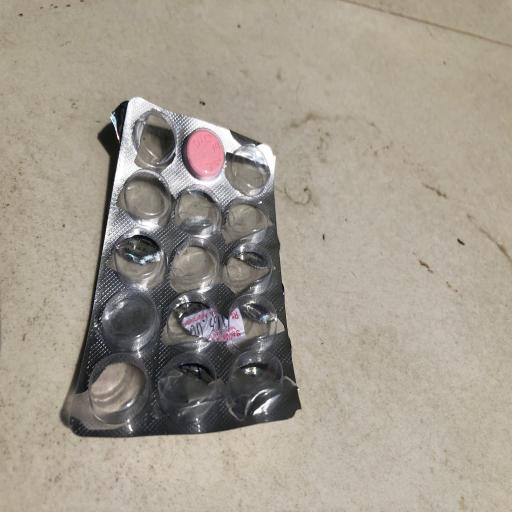waste: (60, 95, 314, 452)
